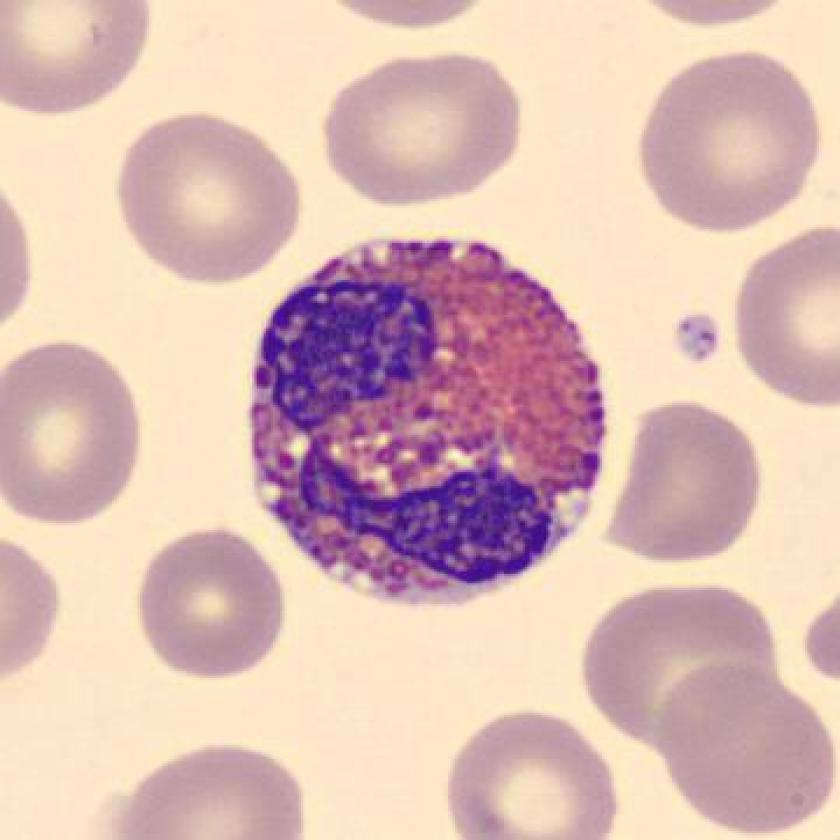eosinophil: (234, 228, 622, 621)
